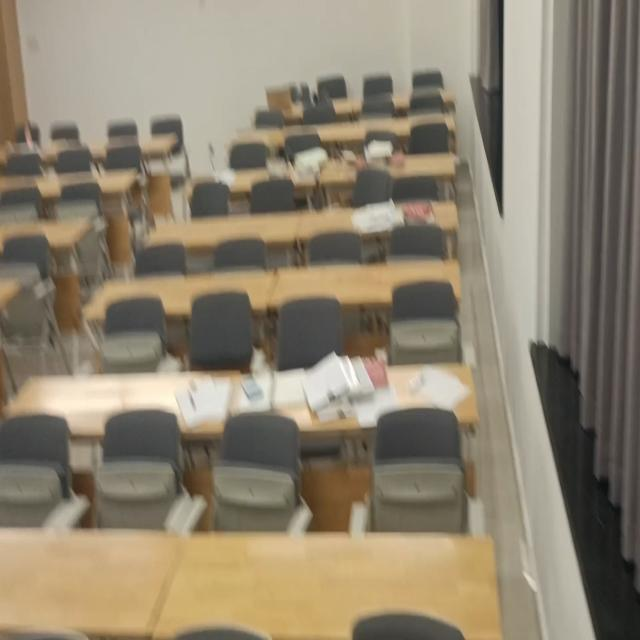Non-empty: (231, 358, 477, 427), (2, 373, 244, 434), (293, 195, 460, 242), (186, 151, 320, 191), (319, 149, 456, 180), (256, 89, 357, 117)
empty: (148, 528, 501, 640), (1, 523, 188, 640), (78, 264, 286, 310), (271, 262, 459, 306), (142, 207, 306, 250), (5, 212, 99, 257)
